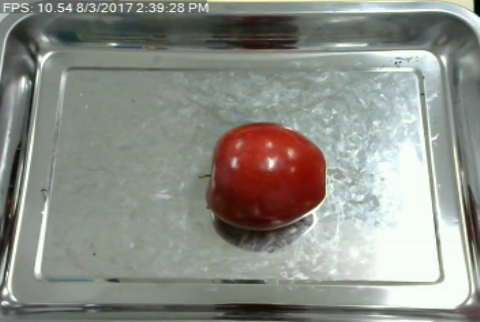Apple: (204, 117, 329, 236)
